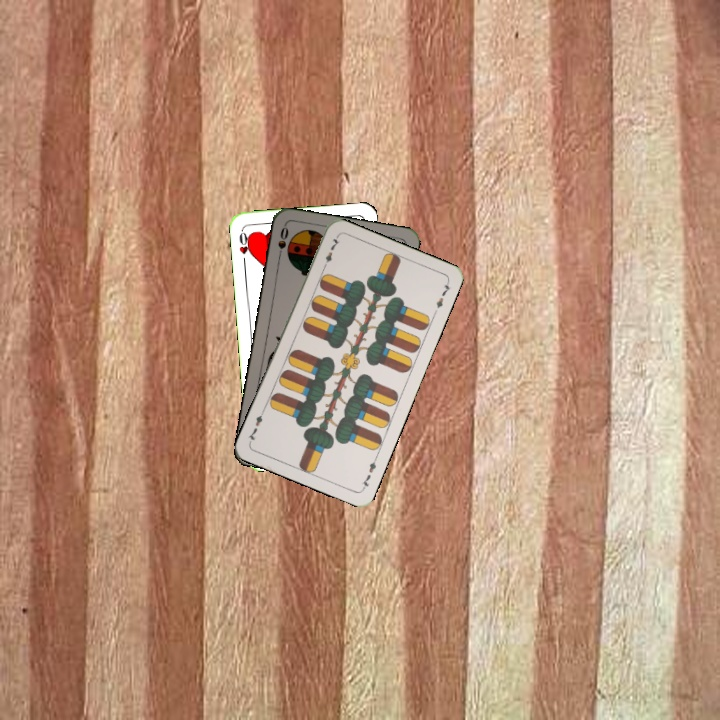E7: (319, 233, 342, 272), (357, 453, 380, 492)
HO: (235, 226, 254, 267)
SO: (274, 223, 291, 263)
